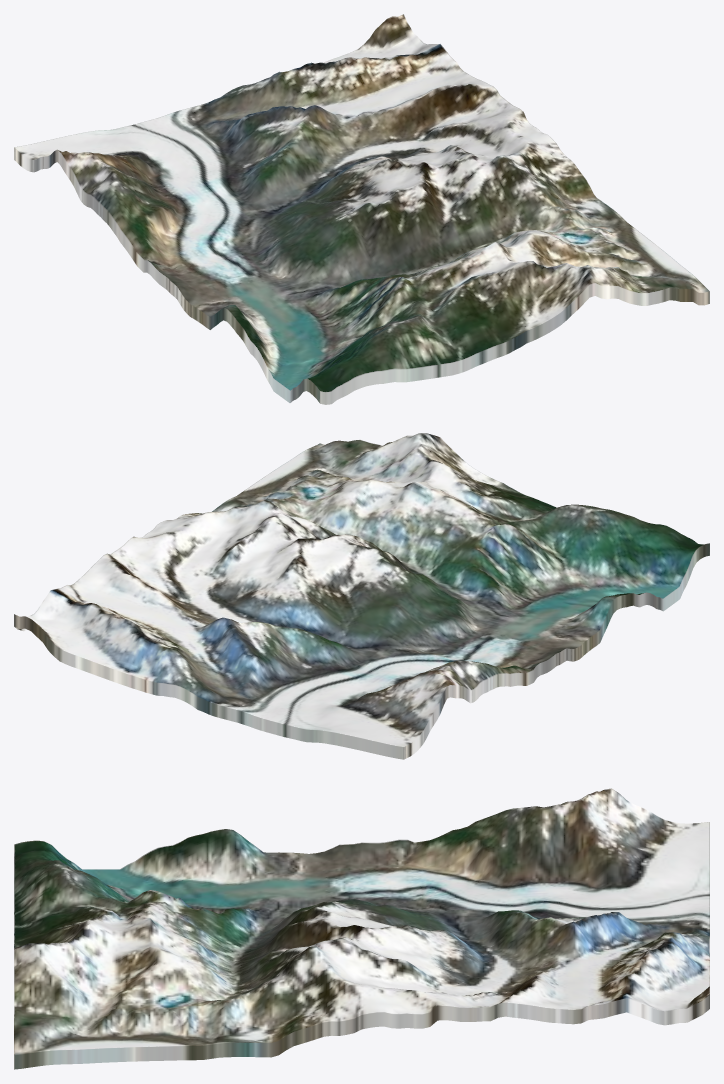
3 views of the same model, one above another, from view 1: azimuth 30°, elevation 25°; view 2: azimuth 150°, elevation 25°; view 3: azimuth 270°, elevation 25° (orthographic). The views are drawn at different scales.
Parts seen in each view (by area): view 1: tile; view 2: tile; view 3: tile.
Part boxes in pixels (left/top/right/bottom): tile: left=14, top=14, right=709, bottom=404; tile: left=14, top=433, right=709, bottom=759; tile: left=14, top=788, right=709, bottom=1069.
Size of the model in its own units: 8100 by 1902 by 11010.
Materials: 1 (1 with a texture image).
